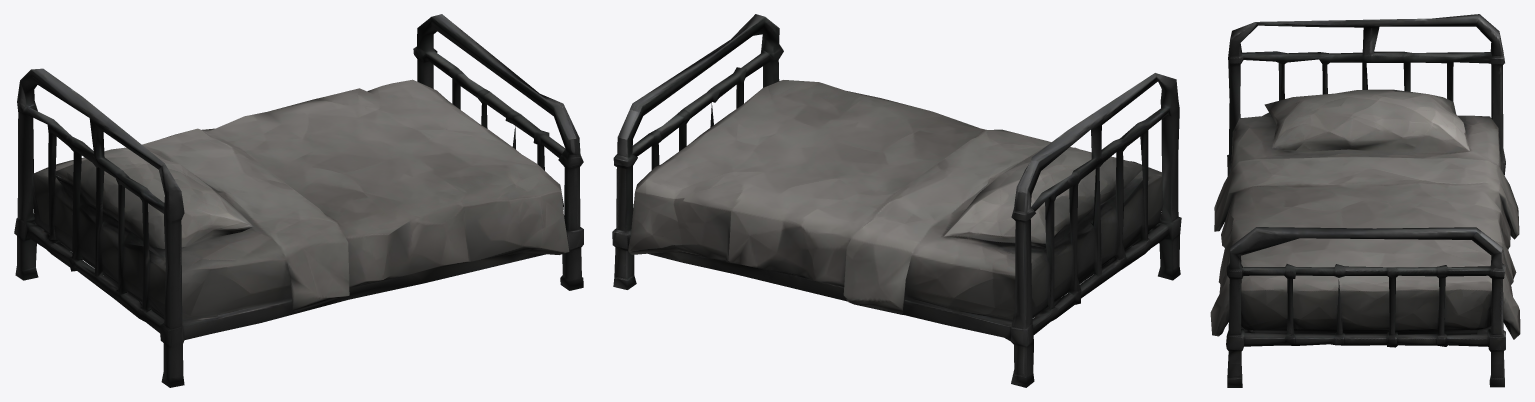
The model's file is metal+bed+3d+model.glb.
3 renders of one model, left to right at view 1: azimuth 30°, elevation 25°; view 2: azimuth 150°, elevation 25°; view 3: azimuth 270°, elevation 25°, orthographic. The views are drawn at different scales.
Visible parts, largest first — view 1: tripo_node_789e55e5-b1e7-4a10-8320-c487c84e07c5; view 2: tripo_node_789e55e5-b1e7-4a10-8320-c487c84e07c5; view 3: tripo_node_789e55e5-b1e7-4a10-8320-c487c84e07c5.
Part boxes in pixels (bbox=[...]): tripo_node_789e55e5-b1e7-4a10-8320-c487c84e07c5: bbox=[14, 14, 583, 387]; tripo_node_789e55e5-b1e7-4a10-8320-c487c84e07c5: bbox=[612, 14, 1181, 387]; tripo_node_789e55e5-b1e7-4a10-8320-c487c84e07c5: bbox=[1210, 14, 1520, 387].
Bounding box in the file's own units: 1 × 0.4972 × 0.7204.
1 material, 1 textured.
